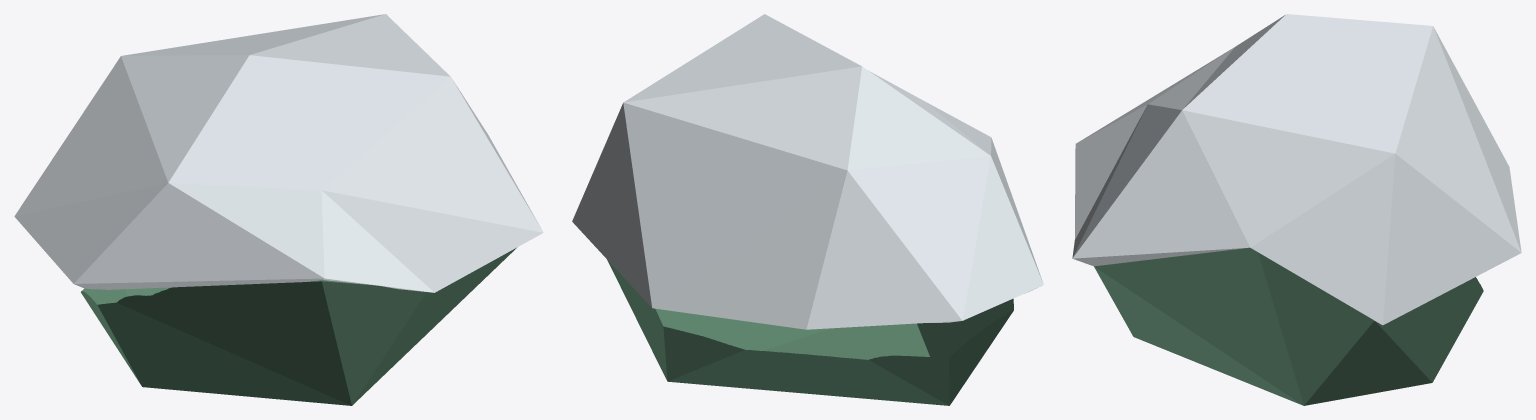
Rendered from SmallBush_nev.obj.
3 renders of one model, left to right at view 1: azimuth 30°, elevation 25°; view 2: azimuth 150°, elevation 25°; view 3: azimuth 270°, elevation 25°, orthographic. The views are drawn at different scales.
Visible parts, largest first — view 1: SmallBush_nev; view 2: SmallBush_nev; view 3: SmallBush_nev.
Boxes of the visible parts, bbox=[...] form: SmallBush_nev: bbox=[14, 14, 543, 405]; SmallBush_nev: bbox=[572, 14, 1043, 405]; SmallBush_nev: bbox=[1072, 14, 1521, 405].
Bounding box in the file's own units: 2.92 × 2.05 × 2.6.
